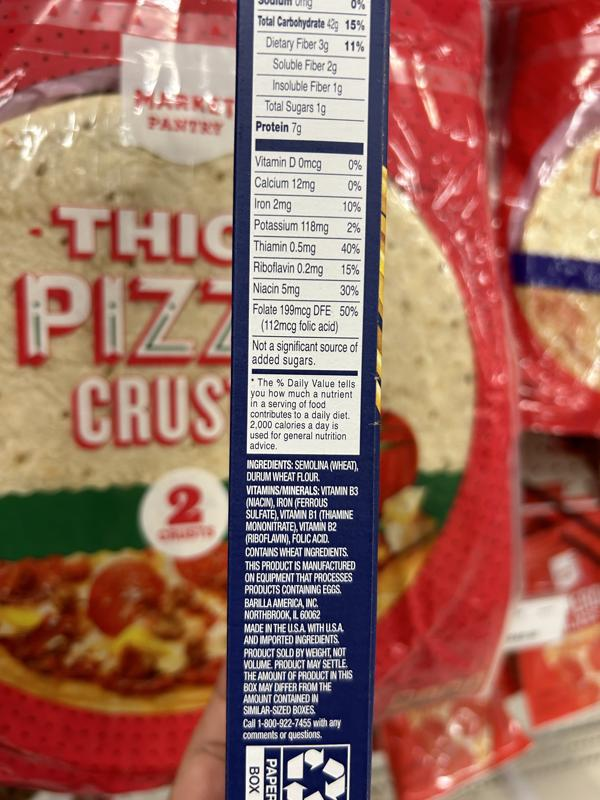ingredients: (242, 457, 362, 596)
